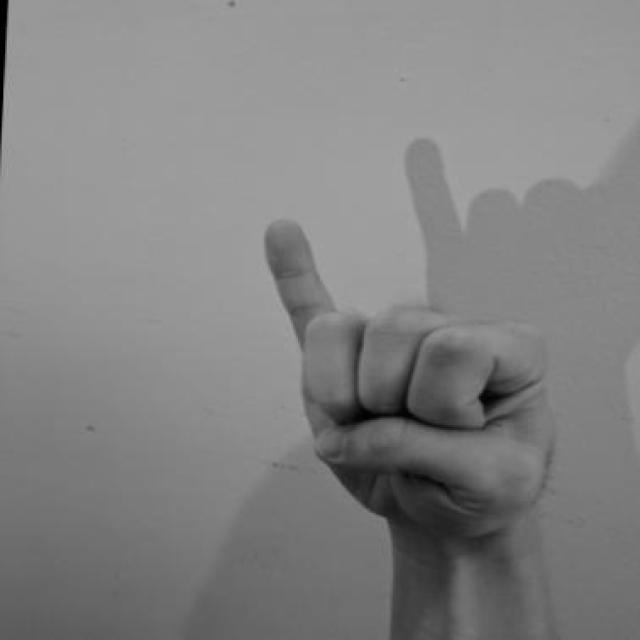I: (244, 209, 574, 551)
